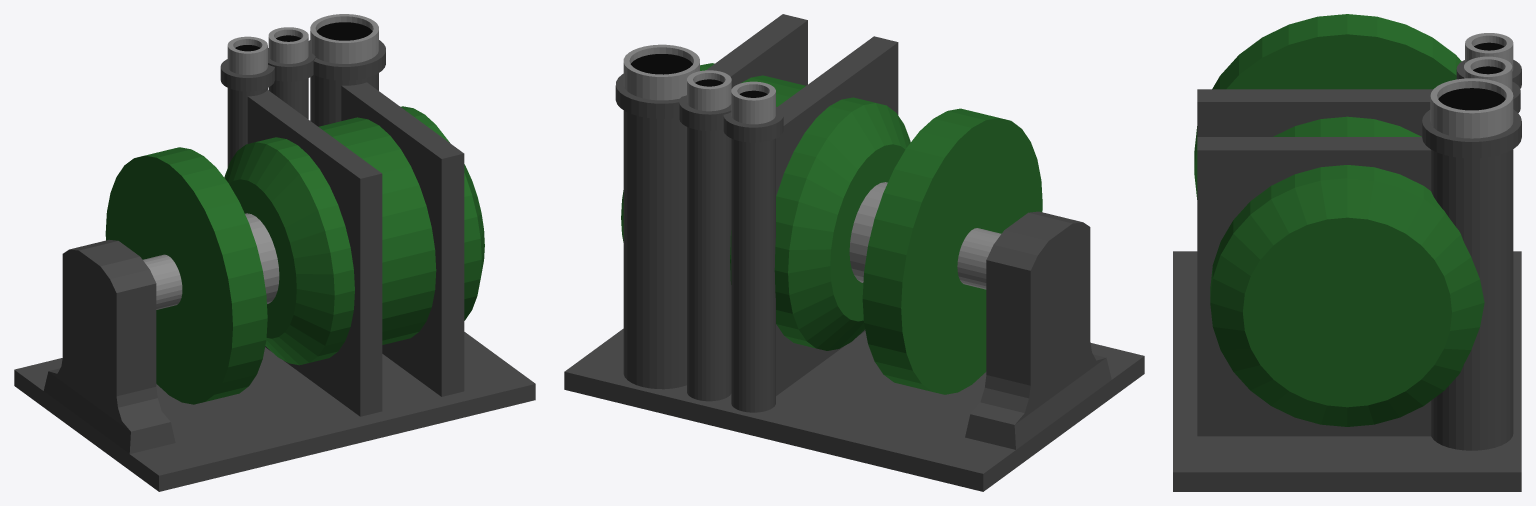
File: Generator.glb
3 renders of one model, left to right at view 1: azimuth 30°, elevation 25°; view 2: azimuth 150°, elevation 25°; view 3: azimuth 270°, elevation 25°, orthographic. The views are drawn at different scales.
Parts seen in each view (by area): view 1: Cube; view 2: Cube; view 3: Cube.
Boxes of the visible parts, <box> form: Cube: <box>14,14,535,491</box>; Cube: <box>564,14,1144,491</box>; Cube: <box>1173,14,1521,491</box>.
Bounding box in the file's own units: 3 × 2.26 × 2.
